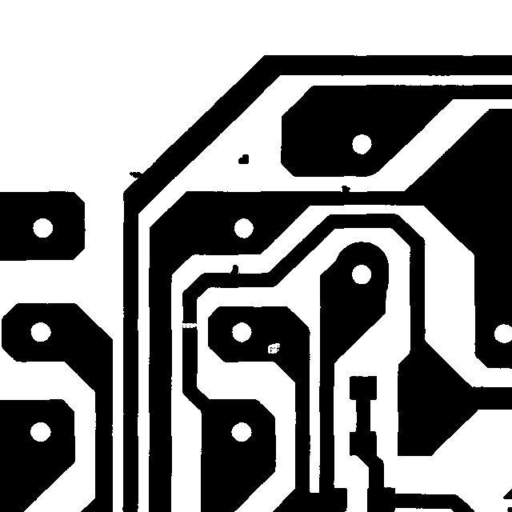copper: (230, 146, 256, 171)
open: (174, 315, 206, 335)
pin-hole: (260, 335, 287, 361)
spur: (122, 164, 153, 190), (222, 257, 246, 283), (334, 178, 358, 202)
